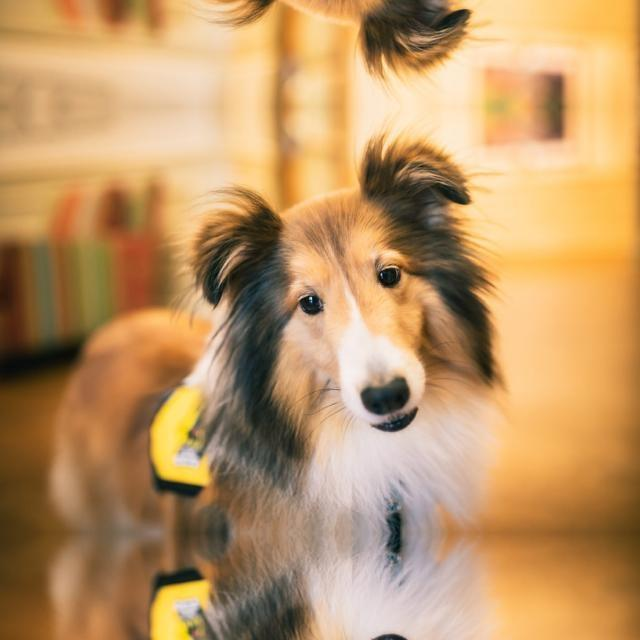dog: (155, 146, 542, 507), (155, 559, 542, 640), (155, 0, 542, 66)
